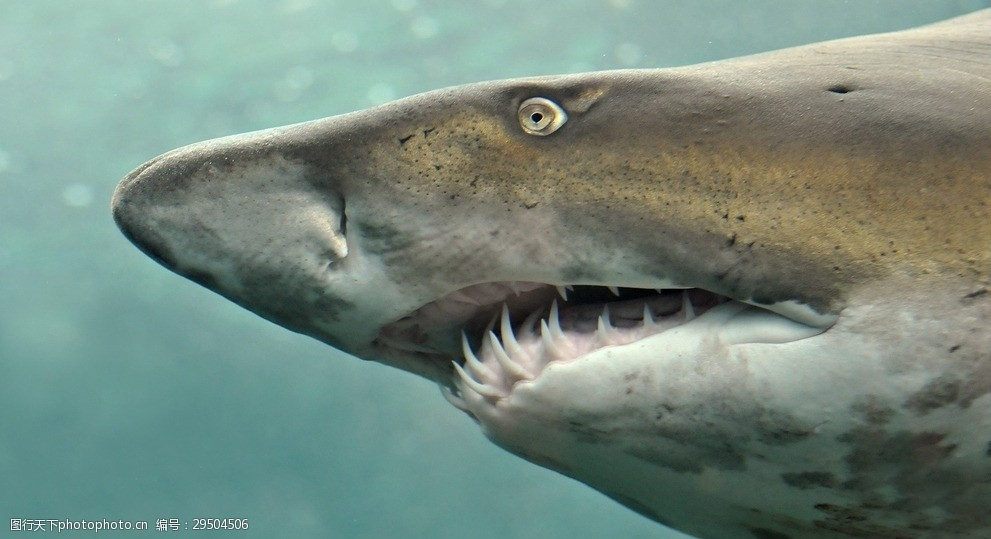shark: (94, 9, 991, 539)
